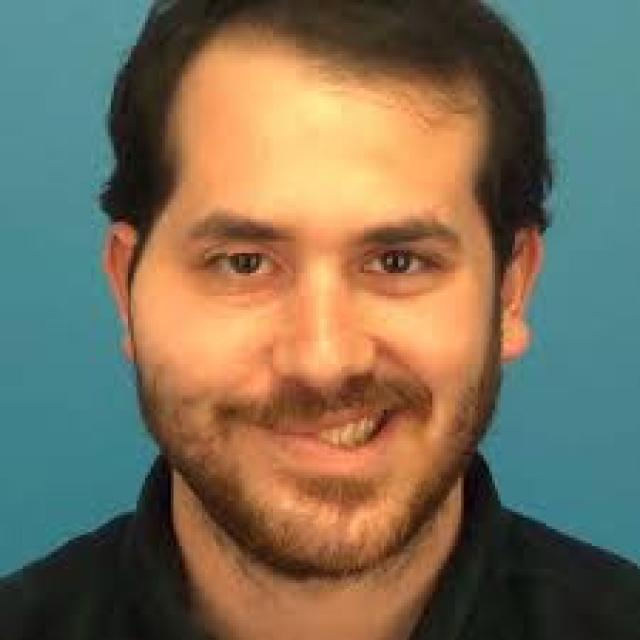stroke_face: (122, 0, 532, 581)
